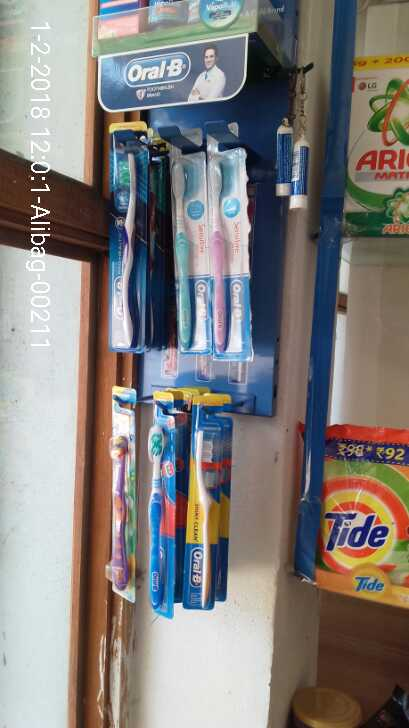home: (332, 50, 409, 239), (318, 427, 408, 581)
pharmacy: (103, 130, 146, 353), (156, 155, 202, 352), (180, 409, 225, 602), (211, 156, 255, 353), (138, 411, 182, 604), (105, 395, 139, 599)
